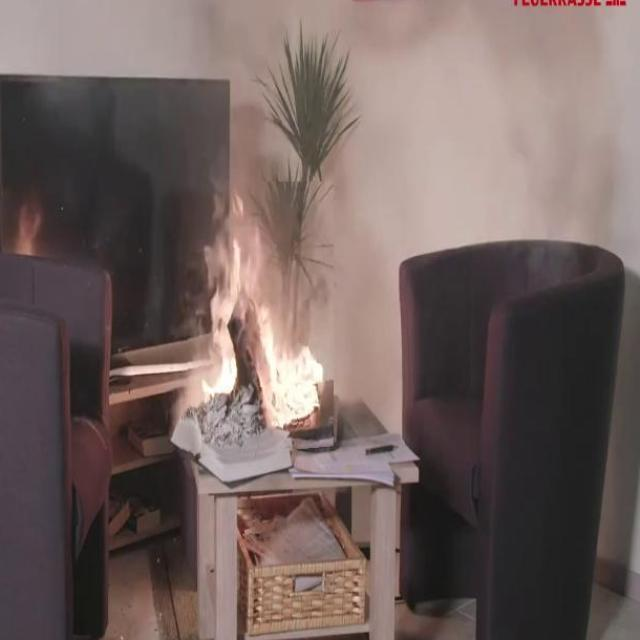smoke: (180, 181, 240, 402), (254, 301, 328, 430)
